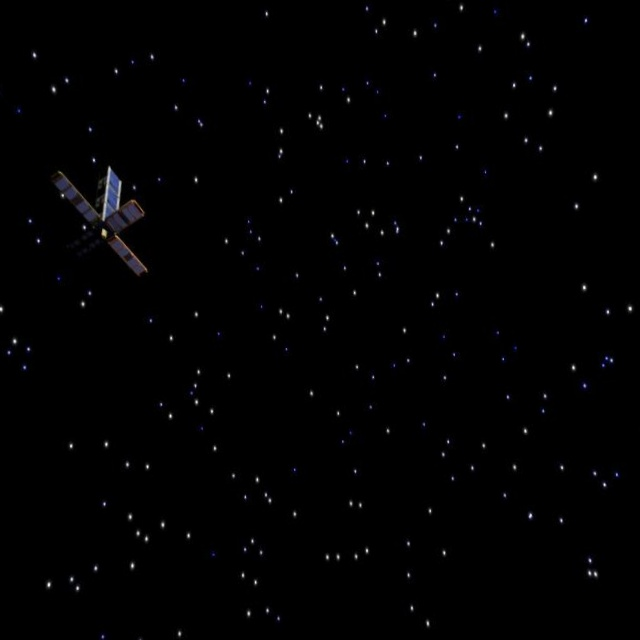medium_debris: (46, 142, 157, 288)
